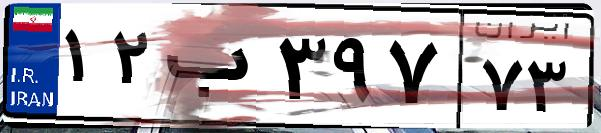1: (57, 26, 110, 100)
2: (110, 28, 158, 98)
3: (270, 28, 330, 110), (525, 38, 570, 115)
7: (385, 28, 445, 110), (475, 38, 525, 113)
9: (330, 28, 385, 110)
ب: (158, 20, 270, 120)
